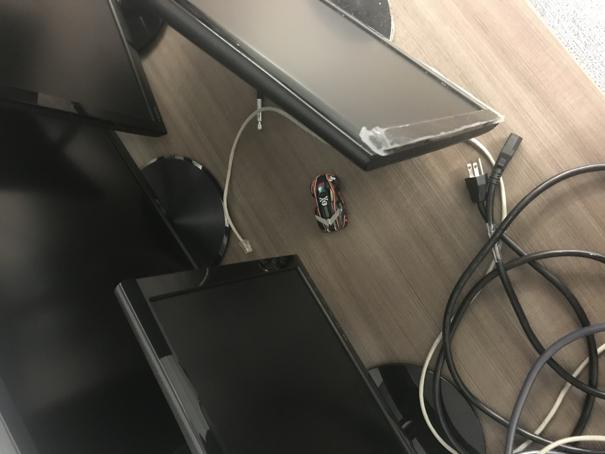Skull: (310, 173, 350, 232)
